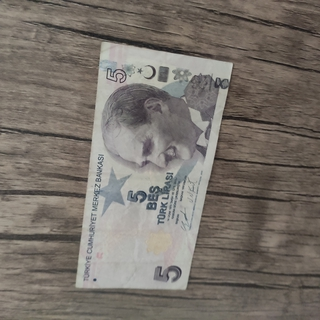5TLFront: (75, 41, 233, 291)
